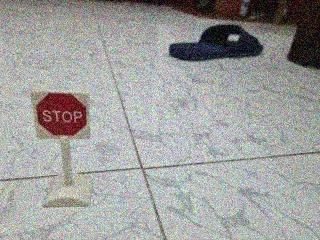stop: (23, 85, 95, 150)
